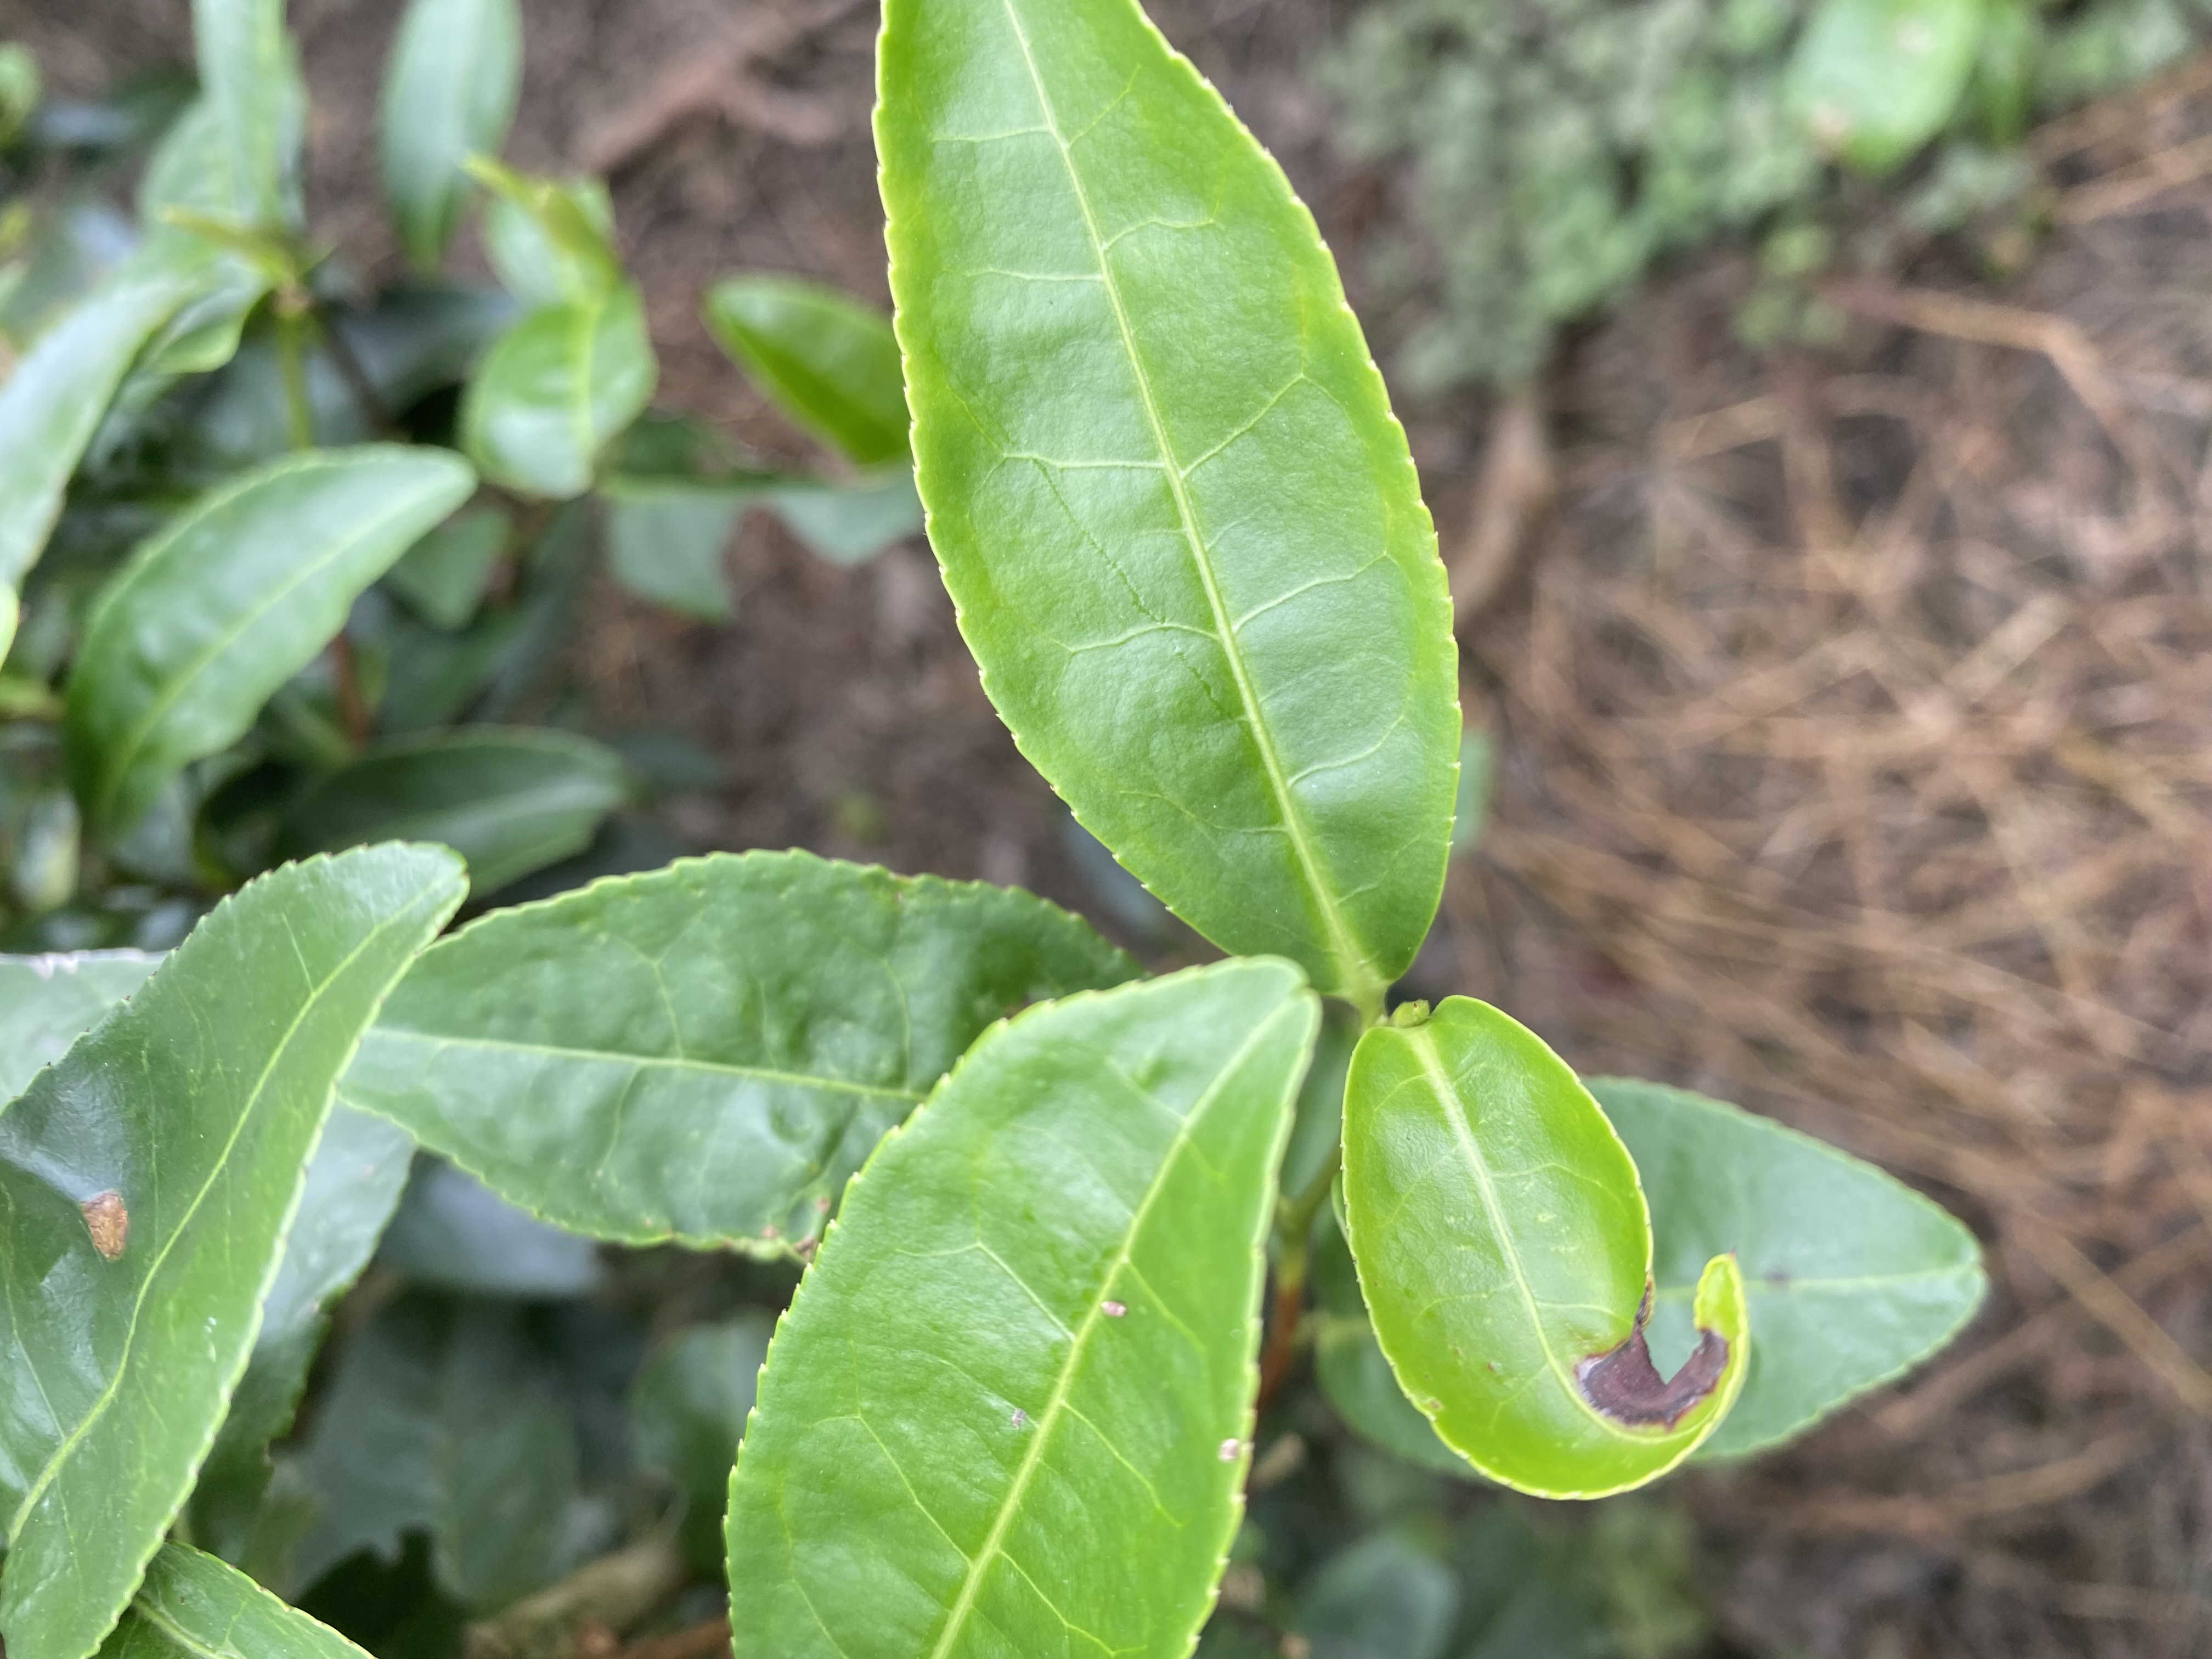healthy: (871, 3, 1468, 990)
tanju_high: (1338, 993, 1750, 1504)
tanju_low: (719, 953, 1324, 1654), (2, 838, 469, 1657)
